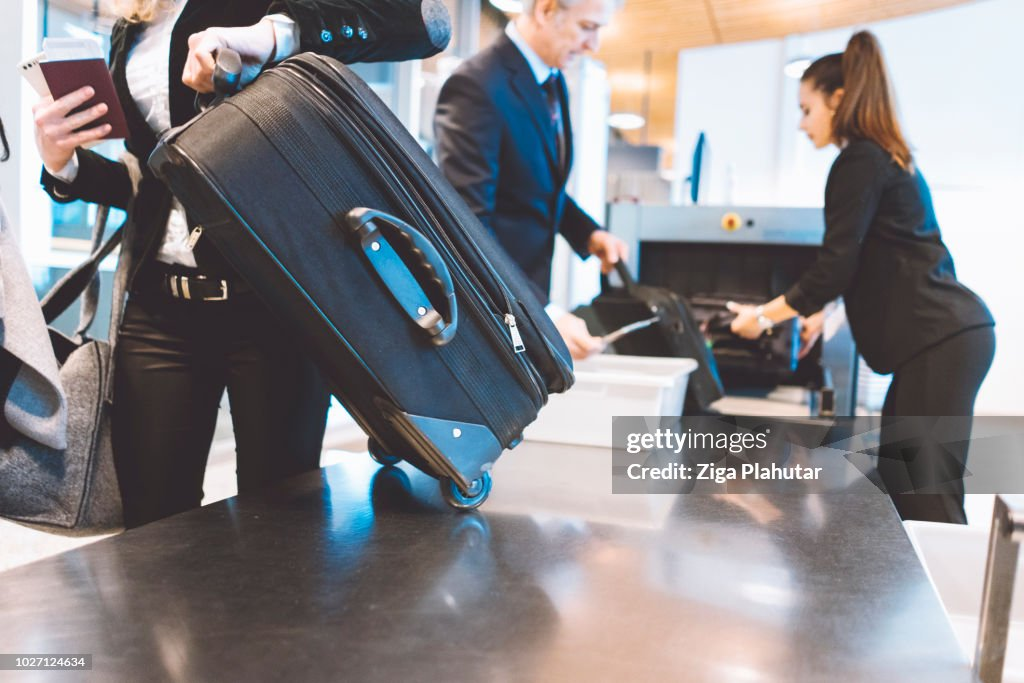baggage: (148, 49, 578, 549), (589, 255, 724, 429)
